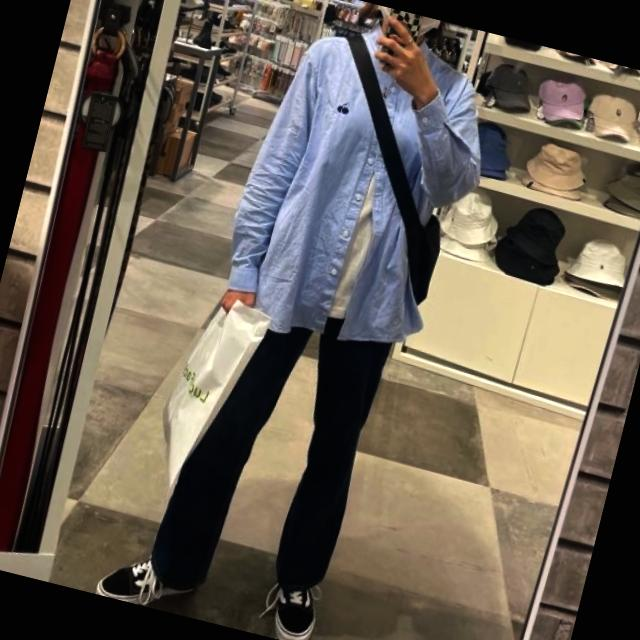denimpants: (144, 282, 398, 624)
shirt: (212, 2, 510, 374)
